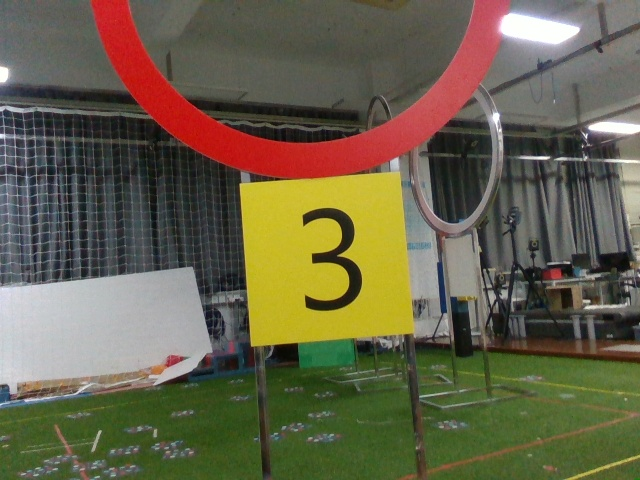target: (243, 185, 397, 333)
